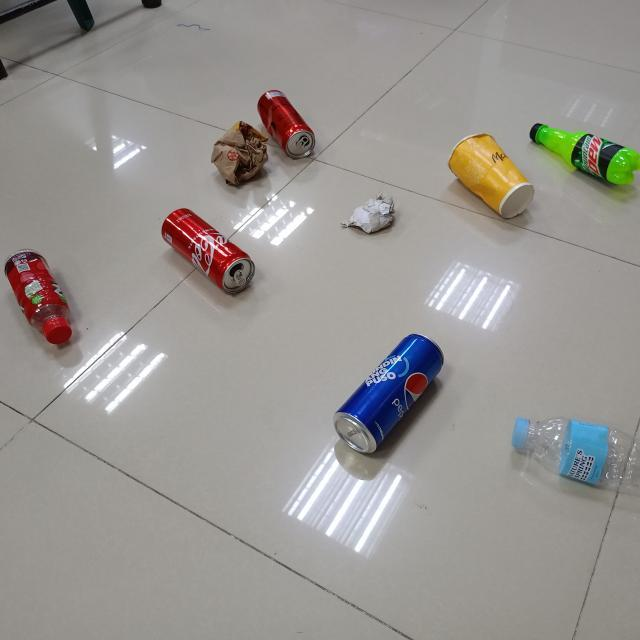recyclable waste: (326, 328, 448, 459), (505, 412, 640, 503), (158, 204, 260, 298), (444, 129, 536, 223), (525, 117, 640, 190), (0, 243, 76, 352), (253, 82, 320, 162), (207, 115, 272, 190), (331, 187, 404, 236)
